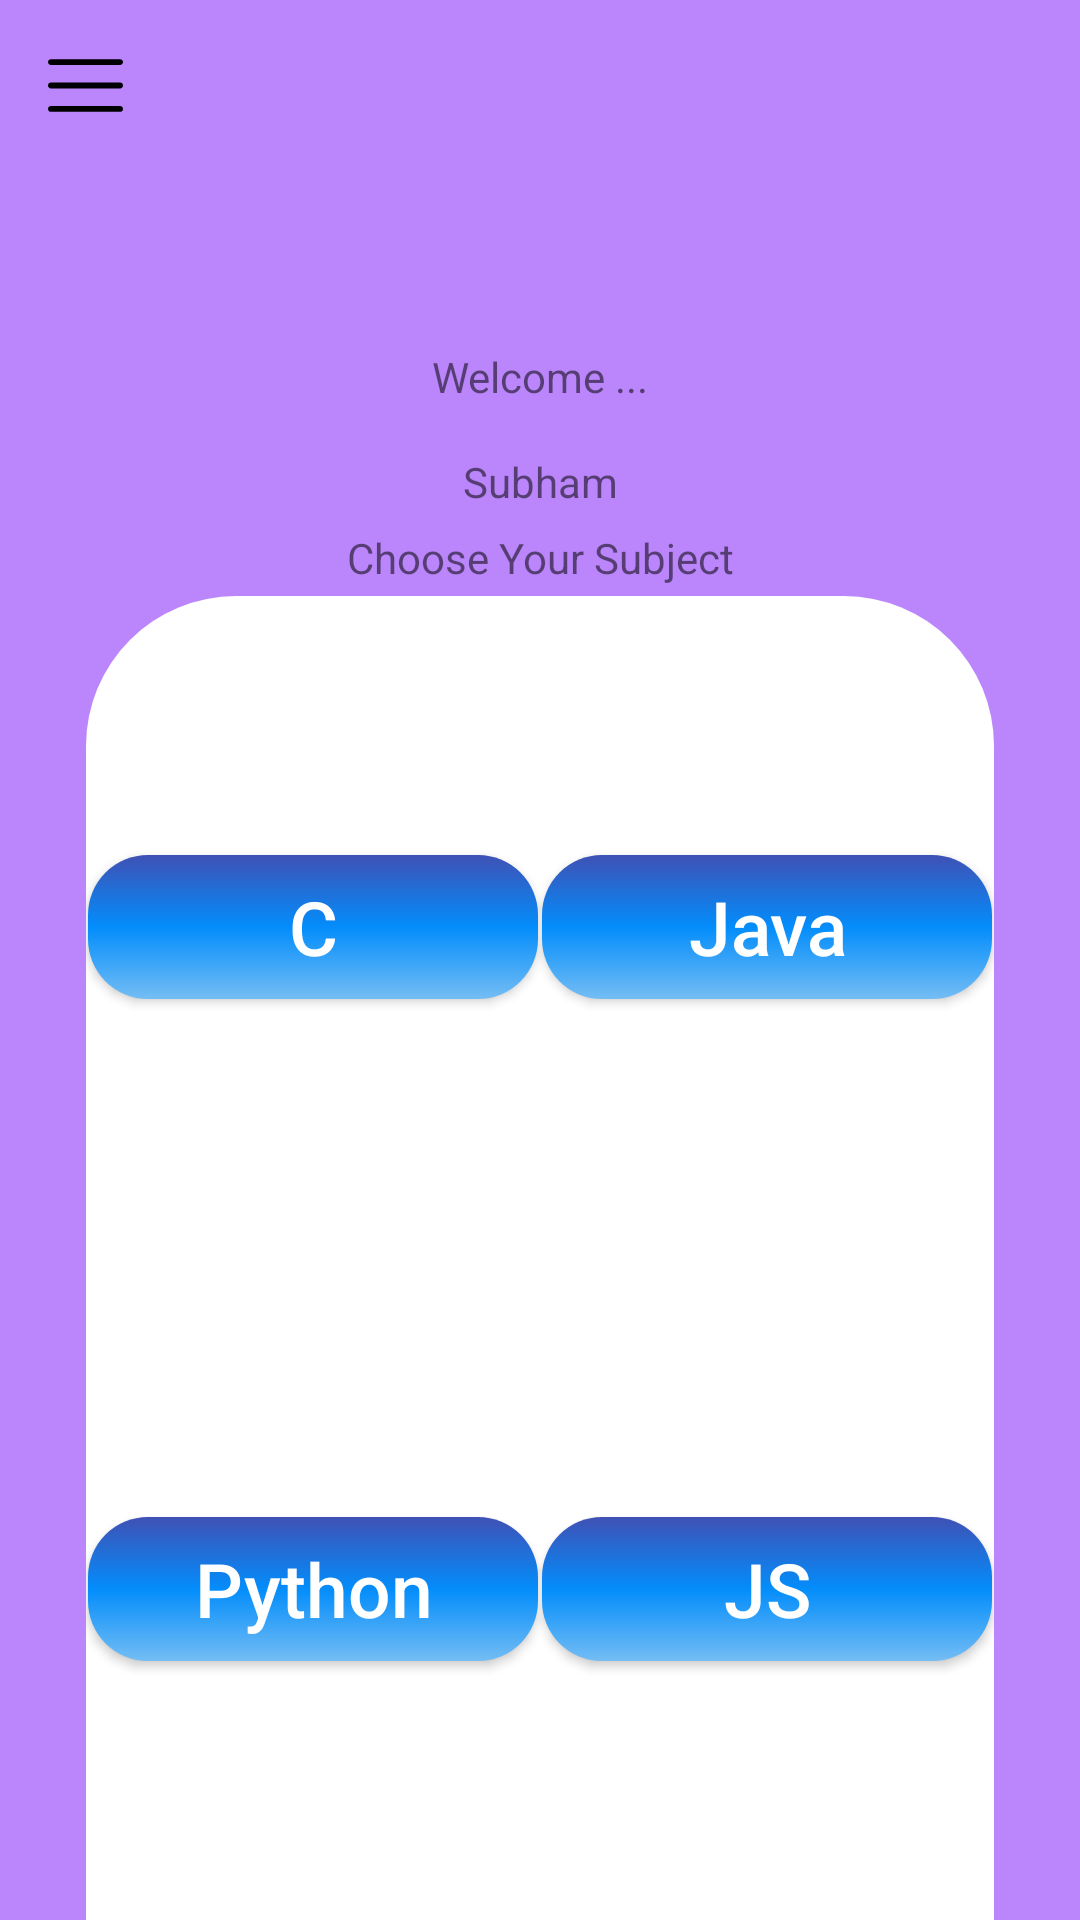

Where icons sit on this 1080*1920 app screen, as bbox=(x1, y1, x2, y2):
menu: bbox=(48, 59, 123, 112)
